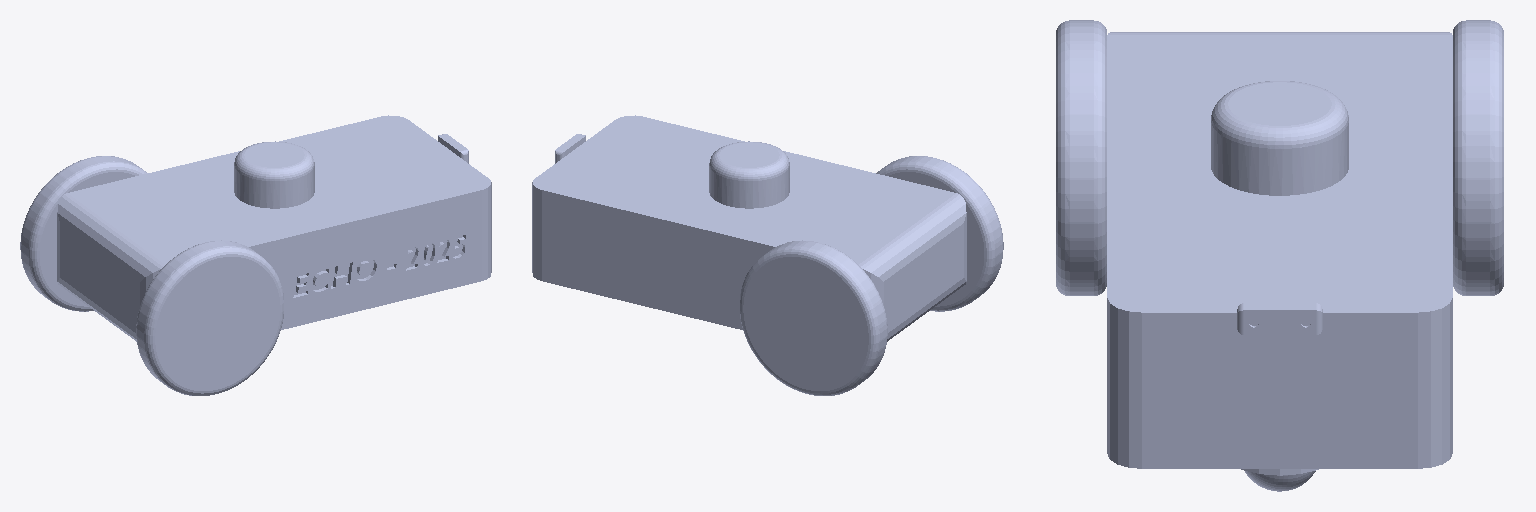
URDF robot description (echo_v1):
<?xml version="1.0" encoding="utf-8"?>
<!-- This URDF was automatically created by SolidWorks to URDF Exporter! Originally created by [author] ([email redacted]) 
     Commit Version: 1.6.0-4-g7f85cfe  Build Version: 1.6.7995.38578
     For more information, please see http://wiki.ros.org/sw_urdf_exporter -->
<robot
  name="echo_v1">

  <!-- Base Footprint (ground frame) -->
  <link name="base_footprint"/>

  <joint name="base_footprint_to_base_link" type="fixed">
    <!-- Rotate base_link 90° counter-clockwise around X -->
    <origin xyz="0 0 0.02" rpy="-1.5708 0 0"/>
    <parent link="base_footprint"/>
    <child link="base_link"/>
  </joint>

  <link
    name="base_link">
    <inertial>
      <origin
        xyz="0.00088588 5.7031E-05 0.02478"
        rpy="0 0 0" />
      <mass
        value="0.99833" />
      <inertia
        ixx="0.0010305"
        ixy="-1.7168E-06"
        ixz="1.5313E-05"
        iyy="0.0035021"
        iyz="1.7459E-07"
        izz="0.0041088" />
    </inertial>
    <visual>
      <origin
        xyz="0 0 0"
        rpy="0 0 0" />
      <geometry>
        <mesh
          filename="package://echo_sim_v1/meshes/base_link.STL" />
      </geometry>
      <material
        name="">
        <color
          rgba="0.79216 0.81961 0.93333 1" />
      </material>
    </visual>
    <collision>
      <origin
        xyz="0 0 0"
        rpy="0 0 0" />
      <geometry>
        <mesh
          filename="package://echo_sim_v1/meshes/base_link.STL" />
      </geometry>
    </collision>
  </link>
  <link
    name="left_wheel_link">
    <inertial>
      <origin
        xyz="-1.3878E-17 0.0075 0"
        rpy="0 0 0" />
      <mass
        value="0.073711" />
      <inertia
        ixx="3.0207E-05"
        ixy="-3.1866E-38"
        ixz="1.075E-37"
        iyy="5.7735E-05"
        iyz="1.0613E-38"
        izz="3.0207E-05" />
    </inertial>
    <visual>
      <origin
        xyz="0 0 0"
        rpy="0 0 0" />
      <geometry>
        <mesh
          filename="package://echo_sim_v1/meshes/left_wheel_link.STL" />
      </geometry>
      <material
        name="">
        <color
          rgba="0.79216 0.81961 0.93333 1" />
      </material>
    </visual>
    <collision>
      <origin
        xyz="0 0 0"
        rpy="0 0 0" />
      <geometry>
        <mesh
          filename="package://echo_sim_v1/meshes/left_wheel_link.STL" />
      </geometry>
    </collision>
  </link>
  <joint
    name="base_link_to_left_wheel"
    type="continuous">
    <origin
      xyz="-0.07 -0.02 0.05"
      rpy="1.5708 0 0" />
    <parent
      link="base_link" />
    <child
      link="left_wheel_link" />
    <axis
      xyz="0 1 0" />
  </joint>
  <link
    name="right_wheel_link">
    <inertial>
      <origin
        xyz="-1.3878E-17 -0.0075 0"
        rpy="0 0 0" />
      <mass
        value="0.073711" />
      <inertia
        ixx="3.0207E-05"
        ixy="-3.1866E-38"
        ixz="1.075E-37"
        iyy="5.7735E-05"
        iyz="1.0613E-38"
        izz="3.0207E-05" />
    </inertial>
    <visual>
      <origin
        xyz="0 0 0"
        rpy="0 0 0" />
      <geometry>
        <mesh
          filename="package://echo_sim_v1/meshes/right_wheel_link.STL" />
      </geometry>
      <material
        name="">
        <color
          rgba="0.79216 0.81961 0.93333 1" />
      </material>
    </visual>
    <collision>
      <origin
        xyz="0 0 0"
        rpy="0 0 0" />
      <geometry>
        <mesh
          filename="package://echo_sim_v1/meshes/right_wheel_link.STL" />
      </geometry>
    </collision>
  </link>
  <joint
    name="base_link_to_right_wheel"
    type="continuous">
    <origin
      xyz="-0.07 -0.02 -0.05"
      rpy="1.5708 0 0" />
    <parent
      link="base_link" />
    <child
      link="right_wheel_link" />
    <axis
      xyz="0 1 0" />
  </joint>
  <link
    name="caster_wheel_link">
    <inertial>
      <origin
        xyz="1.3878E-17 -5.5511E-17 0.0045"
        rpy="0 0 0" />
      <mass
        value="0.0036191" />
      <inertia
        ixx="1.3517E-07"
        ixy="-1.3235E-23"
        ixz="-8.7993E-24"
        iyy="1.3517E-07"
        iyz="-5.2645E-22"
        izz="2.0846E-07" />
    </inertial>
    <visual>
      <origin
        xyz="0 0 0"
        rpy="0 0 0" />
      <geometry>
        <mesh
          filename="package://echo_sim_v1/meshes/caster_wheel_link.STL" />
      </geometry>
      <material
        name="">
        <color
          rgba="0.79216 0.81961 0.93333 1" />
      </material>
    </visual>
    <collision>
      <origin
        xyz="0 0 0"
        rpy="0 0 0" />
      <geometry>
        <mesh
          filename="package://echo_sim_v1/meshes/caster_wheel_link.STL" />
      </geometry>
    </collision>
  </link>
  <joint
    name="base_link_to_caster_wheel"
    type="fixed">
    <origin
      xyz="0.07 0.008 0"
      rpy="1.5708 -1.2948 3.1416" />
    <parent
      link="base_link" />
    <child
      link="caster_wheel_link" />
    <axis
      xyz="0 0 0" />
  </joint>
  <link
    name="lidar_link">
    <inertial>
      <origin
        xyz="-2.6195E-17 -1.1719E-17 0.0097699"
        rpy="0 0 0" />
      <mass
        value="0.024496" />
      <inertia
        ixx="3.1849E-06"
        ixy="3.1764E-22"
        ixz="-1.8127E-23"
        iyy="3.1849E-06"
        iyz="-3.5234E-23"
        izz="4.7979E-06" />
    </inertial>
    <visual>
      <origin
        xyz="0 0 0"
        rpy="0 0 0" />
      <geometry>
        <mesh
          filename="package://echo_sim_v1/meshes/lidar_link.STL" />
      </geometry>
      <material
        name="">
        <color
          rgba="0.79216 0.81961 0.93333 1" />
      </material>
    </visual>
    <collision>
      <origin
        xyz="0 0 0"
        rpy="0 0 0" />
      <geometry>
        <mesh
          filename="package://echo_sim_v1/meshes/lidar_link.STL" />
      </geometry>
    </collision>
  </link>
  <joint
    name="base_link_to_lidar"
    type="fixed">
    <origin
      xyz="0 -0.05 0"
      rpy="1.5708 0.30388 0" />
    <parent
      link="base_link" />
    <child
      link="lidar_link" />
    <axis
      xyz="0 0 0" />
  </joint>
  <link
    name="camera_link">
    <inertial>
      <origin
        xyz="0.0024702 4.5609E-18 -6.9389E-18"
        rpy="0 0 0" />
      <mass
        value="0.00094737" />
      <inertia
        ixx="5.0737E-08"
        ixy="5.1013E-24"
        ixz="5.311E-25"
        iyy="6.9275E-09"
        iyz="7.8632E-15"
        izz="4.7598E-08" />
    </inertial>
    <visual>
      <origin
        xyz="0 0 0"
        rpy="0 0 0" />
      <geometry>
        <mesh
          filename="package://echo_sim_v1/meshes/camera_link.STL" />
      </geometry>
      <material
        name="">
        <color
          rgba="0.79216 0.81961 0.93333 1" />
      </material>
    </visual>
    <collision>
      <origin
        xyz="0 0 0"
        rpy="0 0 0" />
      <geometry>
        <mesh
          filename="package://echo_sim_v1/meshes/camera_link.STL" />
      </geometry>
    </collision>
  </link>
  <joint
    name="base_link_to_camera"
    type="fixed">
    <origin
      xyz="0.1 -0.049 0"
      rpy="1.5708 0 0" />
    <parent
      link="base_link" />
    <child
      link="camera_link" />
    <axis
      xyz="0 0 0" />
  </joint>
</robot>

--- Render facts (derived) ---
The picture shows the robot from 3 angles, left to right: view 1: azimuth 30°, elevation 25°; view 2: azimuth 150°, elevation 25°; view 3: azimuth 270°, elevation 25°; orthographic projection.
Robot: echo_v1 — 7 links, 6 joints (2 continuous, 4 fixed); root link base_footprint; default pose: all joints at 0.
Links seen in each view (by area): view 1: caster_wheel_link, right_wheel_link, base_link, left_wheel_link; view 2: caster_wheel_link, camera_link, lidar_link, right_wheel_link, base_link, left_wheel_link; view 3: caster_wheel_link, right_wheel_link, base_link, lidar_link, left_wheel_link, camera_link.
Link boxes in pixels (x1,y1,x2,y2): caster_wheel_link: (21, 141, 491, 395); right_wheel_link: (23, 115, 490, 337); base_link: (34, 143, 487, 342); left_wheel_link: (62, 151, 468, 395); caster_wheel_link: (533, 123, 1003, 381); camera_link: (698, 178, 1002, 394); lidar_link: (532, 146, 923, 377); right_wheel_link: (533, 115, 1002, 325); base_link: (571, 116, 1002, 388); left_wheel_link: (573, 147, 1002, 395); caster_wheel_link: (1056, 20, 1494, 476); right_wheel_link: (1107, 22, 1501, 465); base_link: (1094, 21, 1494, 475); lidar_link: (1070, 162, 1452, 484); left_wheel_link: (1070, 222, 1501, 491); camera_link: (1105, 28, 1503, 461).
Size in the robot's own frame: 0.215 by 0.13 by 0.09 metres.
Meshes: 6 distinct files referenced, 6 mesh visuals loaded (6 binary STL).